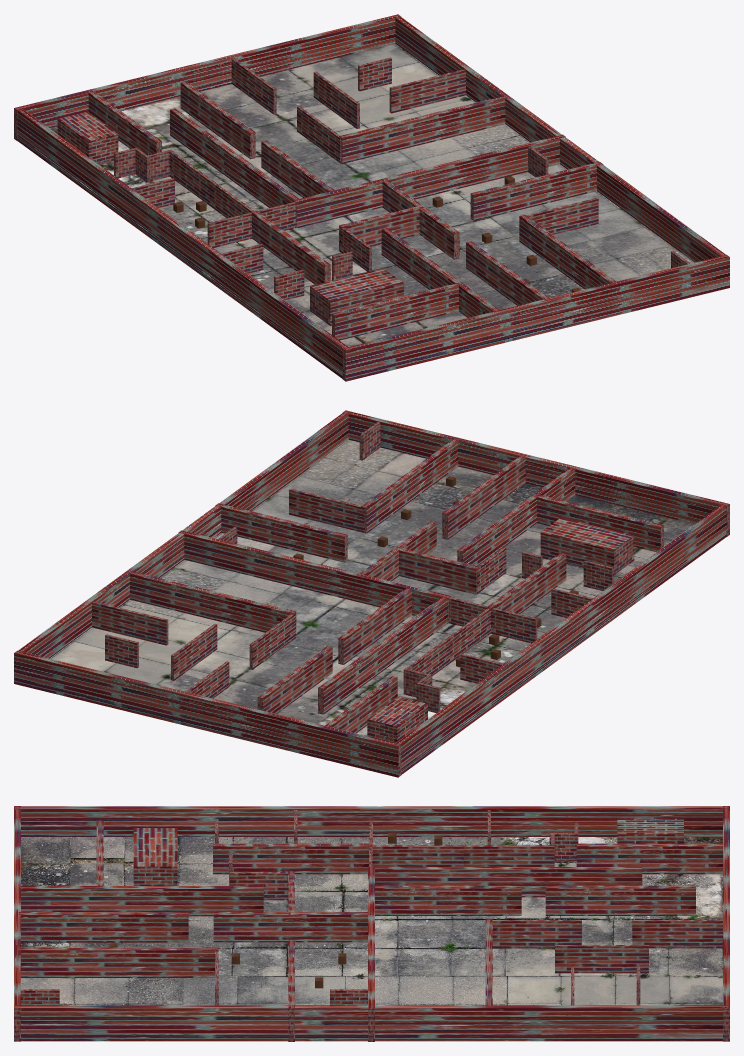
Rendered from map2.obj.
The picture shows the model from 3 angles, top to bottom: view 1: azimuth 30°, elevation 25°; view 2: azimuth 150°, elevation 25°; view 3: azimuth 270°, elevation 25°; orthographic projection. The views are drawn at different scales.
Parts seen in each view (by area): view 1: Cube.021_Cube.020; view 2: Cube.021_Cube.020; view 3: Cube.021_Cube.020.
Boxes of the visible parts, <box> form: Cube.021_Cube.020: <box>14,14,729,381</box>; Cube.021_Cube.020: <box>14,410,729,777</box>; Cube.021_Cube.020: <box>14,806,729,1041</box>.
Bounding box in the file's own units: 117 × 8.93 × 174.
6 materials, 6 textured.
